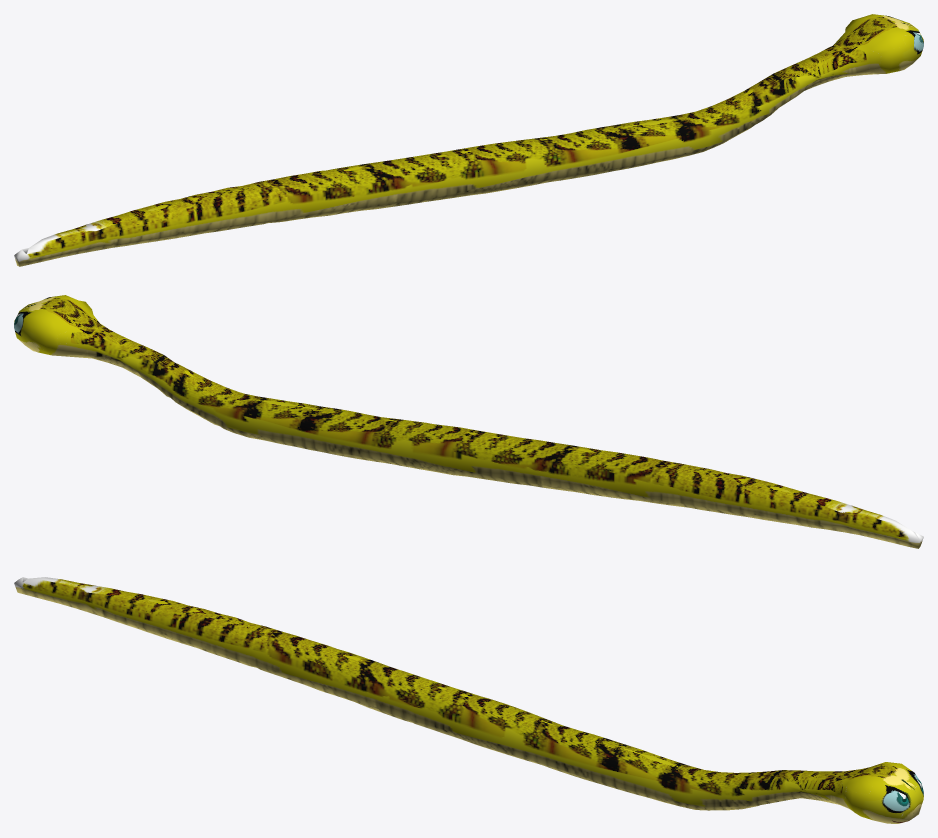
The model's file is snake.obj.
The picture shows the model from 3 angles, top to bottom: view 1: azimuth 30°, elevation 25°; view 2: azimuth 150°, elevation 25°; view 3: azimuth 330°, elevation 25°; orthographic projection.
Size of the model in its own units: 3.47 by 0.3021 by 0.2702.
Materials: 1 (1 with a texture image).
